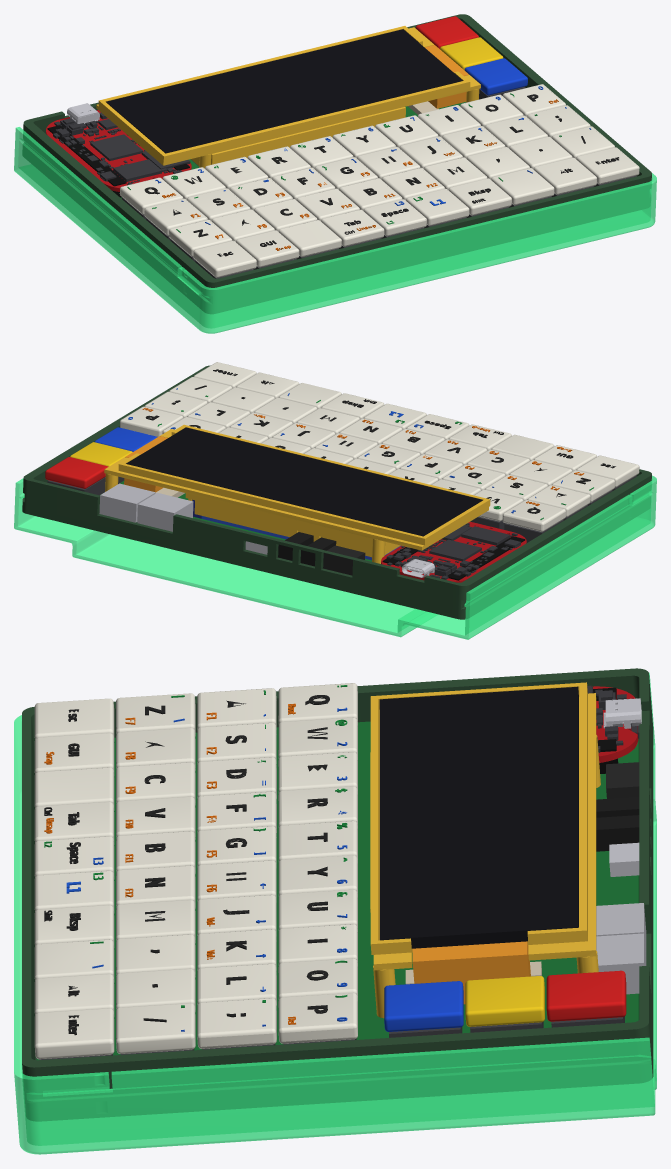
The model's file is cradle_forest.glb.
The picture shows the model from 3 angles, top to bottom: view 1: azimuth 30°, elevation 25°; view 2: azimuth 150°, elevation 25°; view 3: azimuth 270°, elevation 25°; orthographic projection. The views are drawn at different scales.
Parts seen in each view (by area): view 1: Internals, Lid, Tray; view 2: Internals, Lid, Tray; view 3: Internals, Lid, Tray.
Boxes of the visible parts, x1,y1,x2,y2 form: Internals: [46, 16, 639, 278]; Lid: [14, 127, 656, 333]; Tray: [23, 14, 651, 313]; Internals: [45, 362, 639, 582]; Lid: [14, 475, 656, 639]; Tray: [22, 365, 651, 619]; Internals: [34, 682, 646, 1060]; Lid: [14, 672, 656, 1154]; Tray: [22, 668, 653, 1120].
Bounding box in the file's own units: 0.1818 × 0.0365 × 0.1342.
